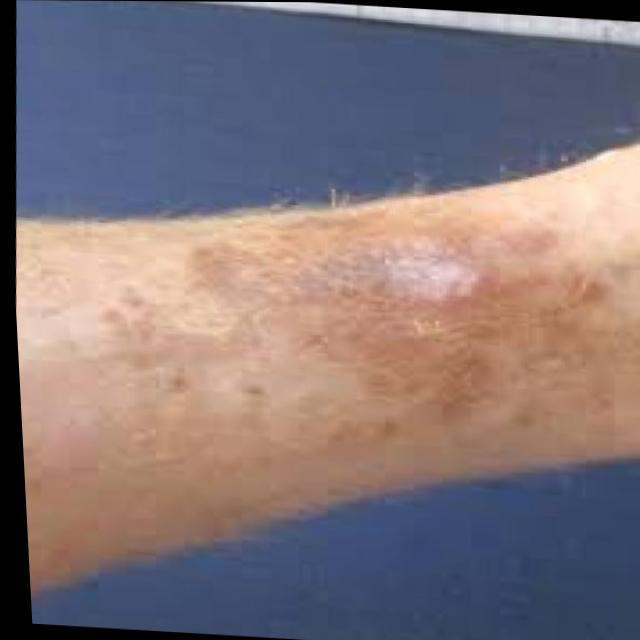Eczema: (148, 193, 640, 438)
